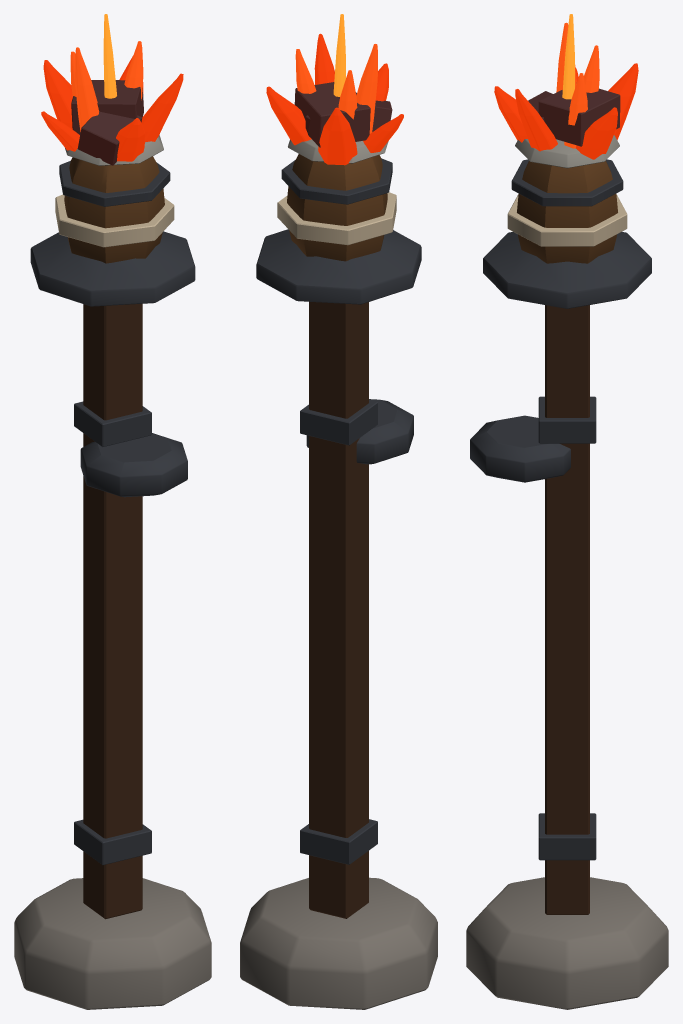
3 views of the same model, side by side, from view 1: azimuth 30°, elevation 25°; view 2: azimuth 150°, elevation 25°; view 3: azimuth 270°, elevation 25° (orthographic).
Parts seen in each view (by area): view 1: TR-wood_dark, TR-stone_mid, TR-iron, TR-wood_mid, TR-flame_out, TR-coal, TR-cloth_cream, TR-ember, TR-flame_in, TR-ash; view 2: TR-wood_dark, TR-stone_mid, TR-iron, TR-wood_mid, TR-flame_out, TR-coal, TR-cloth_cream, TR-ember, TR-ash, TR-flame_in; view 3: TR-wood_dark, TR-stone_mid, TR-iron, TR-wood_mid, TR-flame_out, TR-coal, TR-cloth_cream, TR-ember, TR-ash, TR-flame_in.
Part boxes in pixels (x1=…): TR-wood_dark: x1=83, y1=303, x2=142, y2=919; TR-stone_mid: x1=14, y1=878, x2=211, y2=1009; TR-iron: x1=30, y1=161, x2=195, y2=865; TR-wood_mid: x1=64, y1=156, x2=164, y2=263; TR-flame_out: x1=41, y1=55, x2=183, y2=161; TR-coal: x1=71, y1=80, x2=143, y2=165; TR-cloth_cream: x1=55, y1=194, x2=174, y2=247; TR-ember: x1=70, y1=41, x2=143, y2=131; TR-flame_in: x1=103, y1=14, x2=116, y2=98; TR-ash: x1=65, y1=135, x2=163, y2=165; TR-wood_dark: x1=309, y1=301, x2=368, y2=918; TR-stone_mid: x1=240, y1=877, x2=437, y2=1009; TR-iron: x1=256, y1=158, x2=421, y2=864; TR-wood_mid: x1=287, y1=154, x2=387, y2=261; TR-flame_out: x1=266, y1=33, x2=403, y2=165; TR-coal: x1=294, y1=82, x2=392, y2=147; TR-cloth_cream: x1=277, y1=192, x2=396, y2=245; TR-ember: x1=295, y1=44, x2=377, y2=133; TR-ash: x1=288, y1=139, x2=388, y2=163; TR-flame_in: x1=333, y1=14, x2=345, y2=96; TR-wood_dark: x1=545, y1=305, x2=589, y2=914; TR-stone_mid: x1=466, y1=877, x2=668, y2=1009; TR-iron: x1=470, y1=159, x2=651, y2=860; TR-wood_mid: x1=517, y1=161, x2=617, y2=263; TR-flame_out: x1=494, y1=63, x2=638, y2=159; TR-coal: x1=528, y1=88, x2=620, y2=146; TR-cloth_cream: x1=507, y1=194, x2=627, y2=246; TR-ember: x1=556, y1=22, x2=599, y2=148; TR-ash: x1=515, y1=135, x2=619, y2=168; TR-flame_in: x1=562, y1=14, x2=574, y2=99.
Bounding box in the file's own units: 0.4754 × 2.46 × 0.4754.
